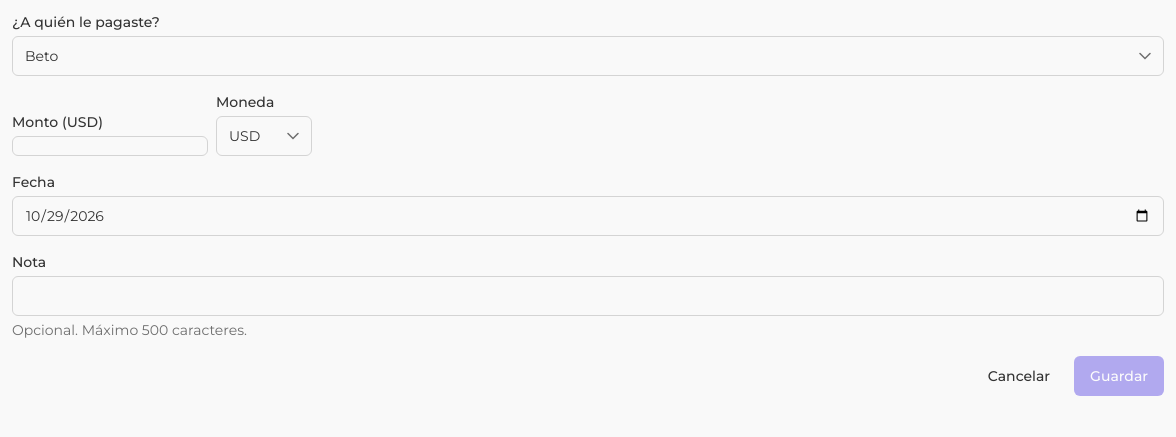
it: SettlementForm transfer helper (T104) › spells out the COP transfer amount with the rate's source and date
Type "40" into the field labelled "Monto (USD)" at (110, 146), box [12,136,208,156]
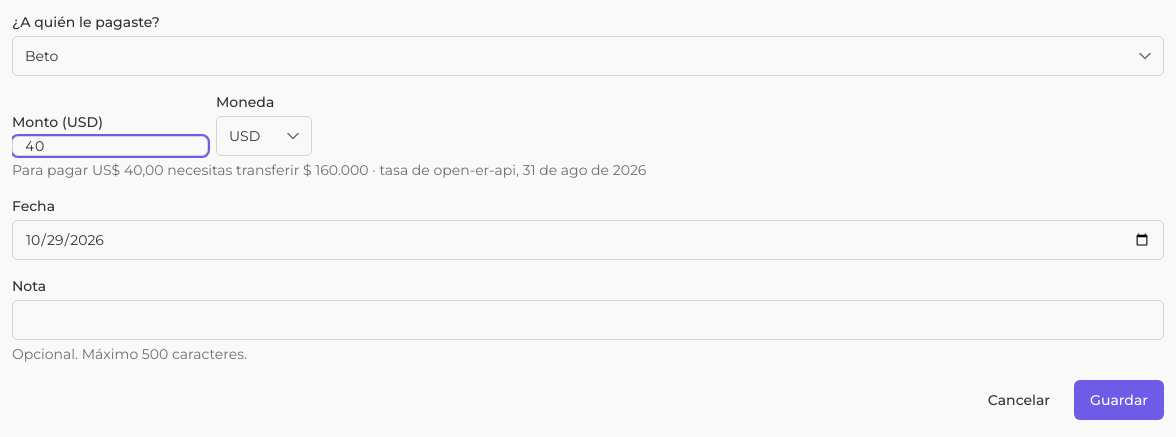
Expected: the text "· tasa de open-er-api, 31 de ago de 2026" is shown, [372,161,646,179]
